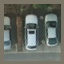car: (44, 13, 59, 46), (25, 16, 38, 51)
